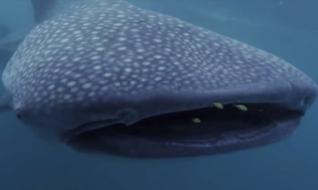Shark -Selachimorpha-: (0, 0, 318, 158)
